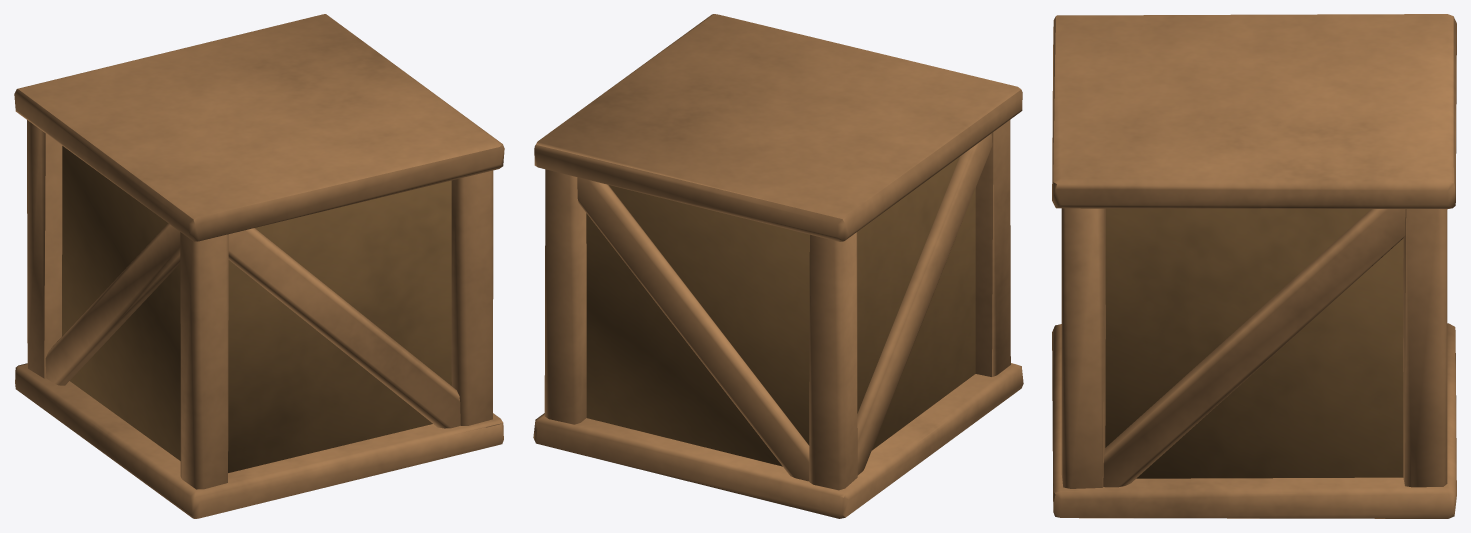
Rendered from Cassa.fbx.
3 renders of one model, left to right at view 1: azimuth 30°, elevation 25°; view 2: azimuth 150°, elevation 25°; view 3: azimuth 270°, elevation 25°, orthographic. The views are drawn at different scales.
Parts seen in each view (by area): view 1: Cassa lp v3; view 2: Cassa lp v3; view 3: Cassa lp v3.
Part boxes in pixels (x1,y1,x2,y2): Cassa lp v3: (14,14,504,518); Cassa lp v3: (533,14,1023,518); Cassa lp v3: (1052,14,1456,518).
Size of the model in its own units: 0.9896 by 0.9159 by 0.9896.
